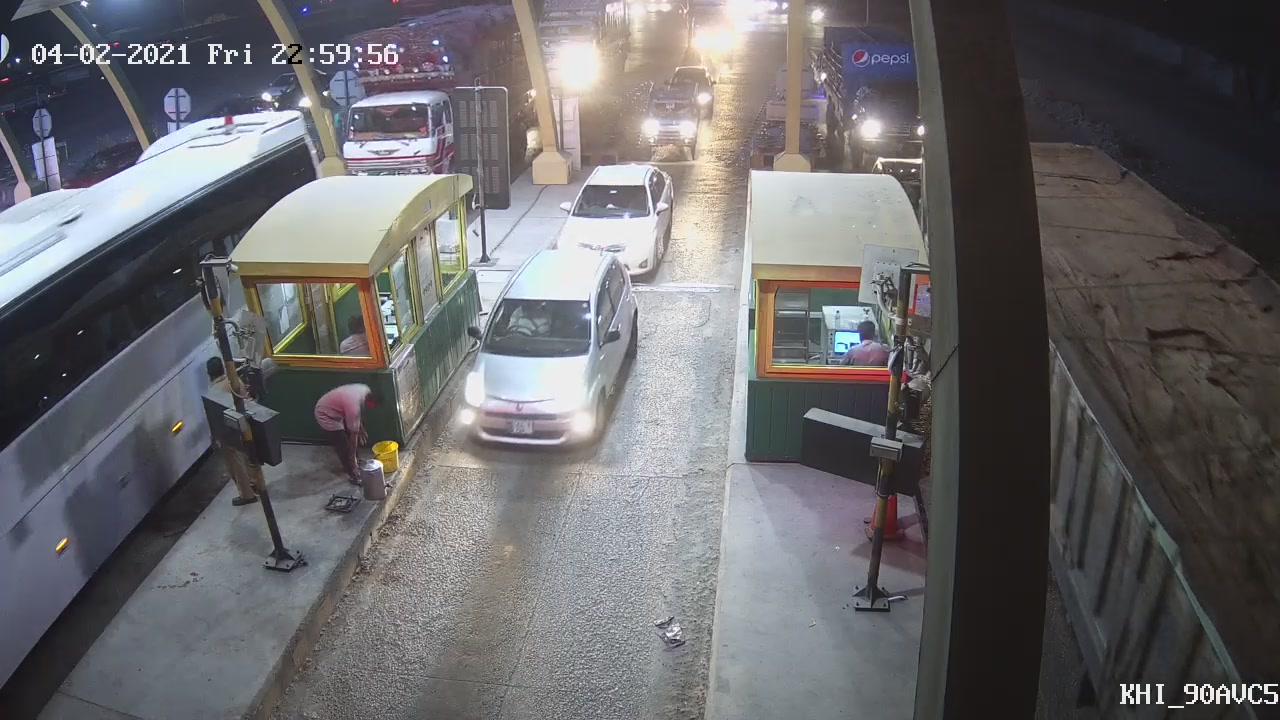F1: (457, 247, 649, 452)
